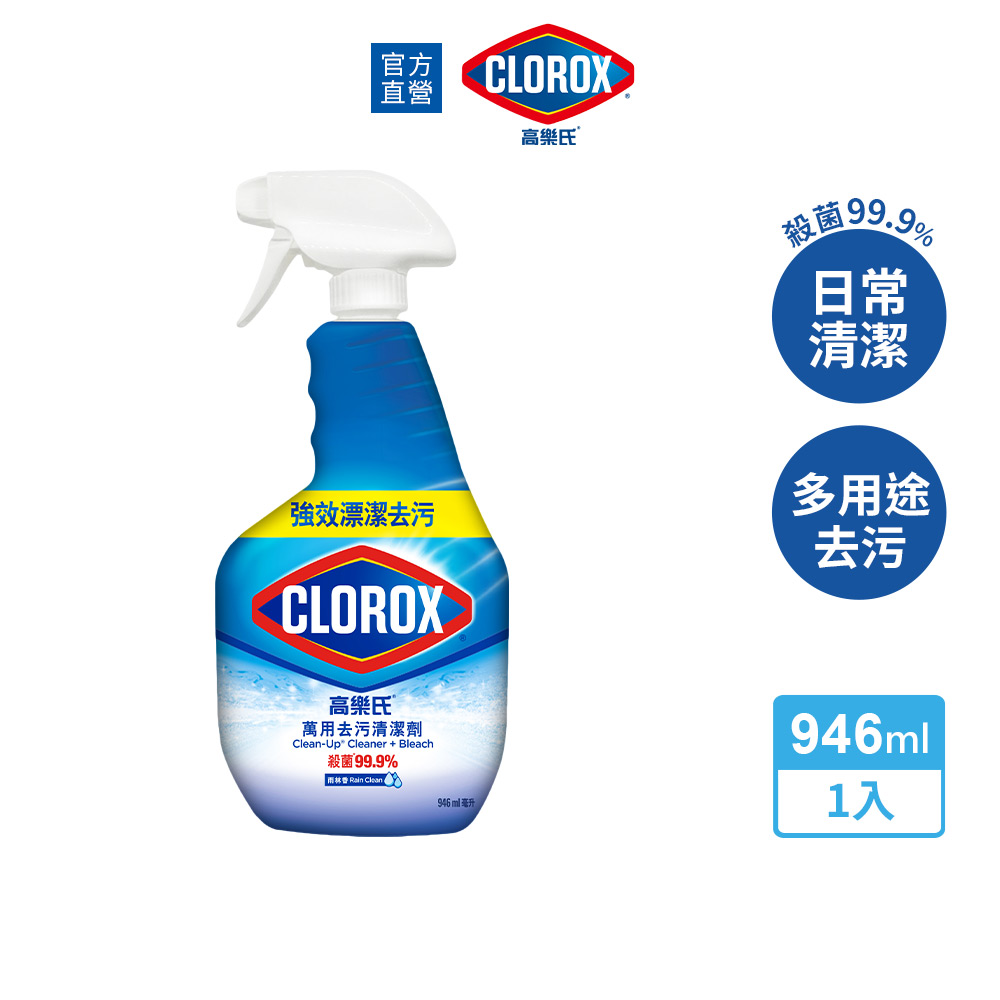cleaner: (194, 164, 519, 842)
